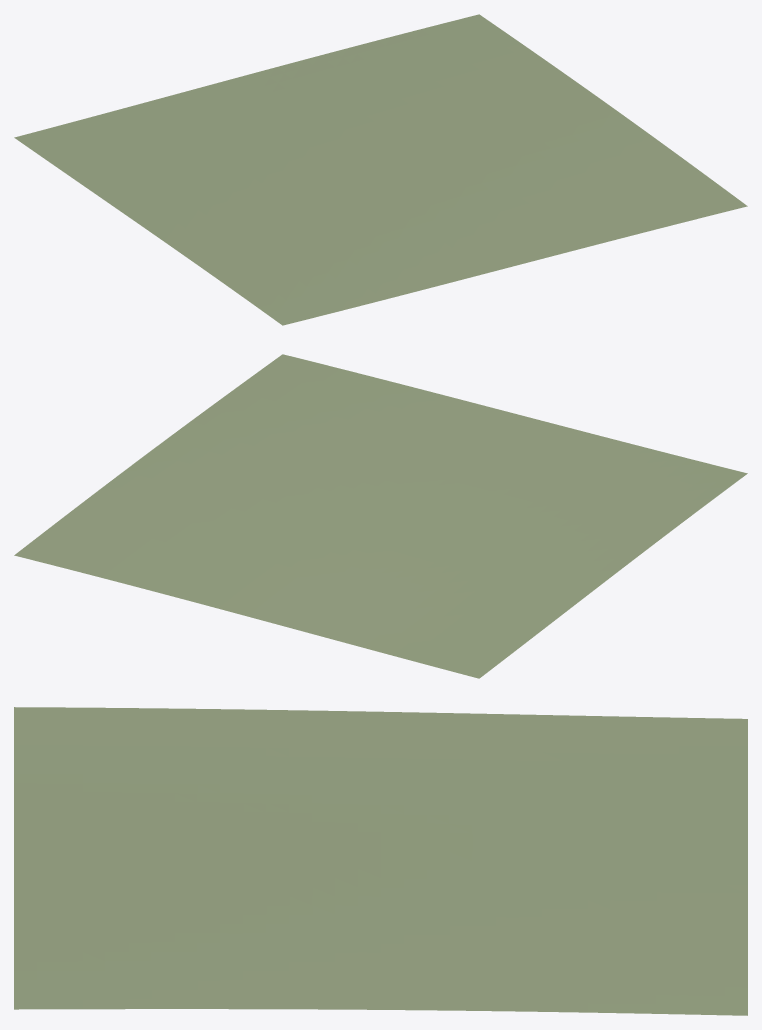
Rendered from expanse-2-15.glb.
The picture shows the model from 3 angles, top to bottom: view 1: azimuth 30°, elevation 25°; view 2: azimuth 150°, elevation 25°; view 3: azimuth 270°, elevation 25°; orthographic projection. The views are drawn at different scales.
Visible parts, largest first — view 1: expanse-2-15; view 2: expanse-2-15; view 3: expanse-2-15.
Part boxes in pixels (box(x1,y1,x2,y2)): expanse-2-15: box(14, 14, 747, 325); expanse-2-15: box(14, 354, 747, 678); expanse-2-15: box(14, 707, 747, 1015).
Size of the model in its own units: 256 by 7.7 by 256.
